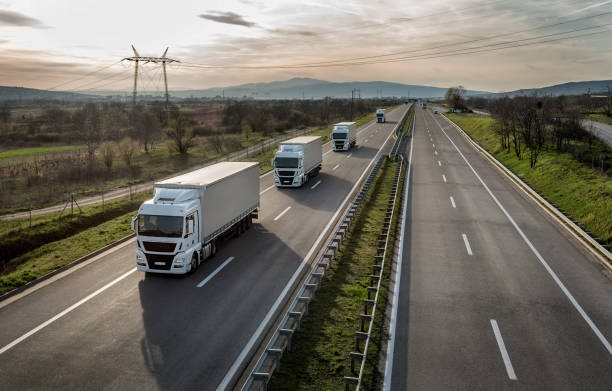HeavyVehicle: (124, 159, 263, 278)
